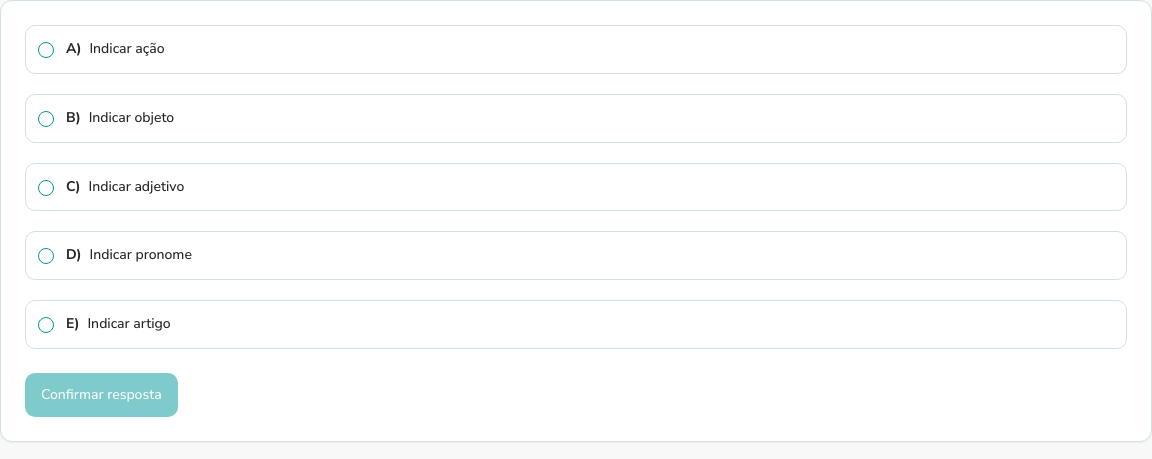
Test case: AnswerForm › botão começa desabilitado até selecionar alternativa
Check: the button "Confirmar resposta" is disabled, box [25,373,178,417]
What coordinates should you click on to do the following:
click the radio button in the row of "Indicar ação"
I would click on:
 (46, 50)
Its box is [38,42,54,58].
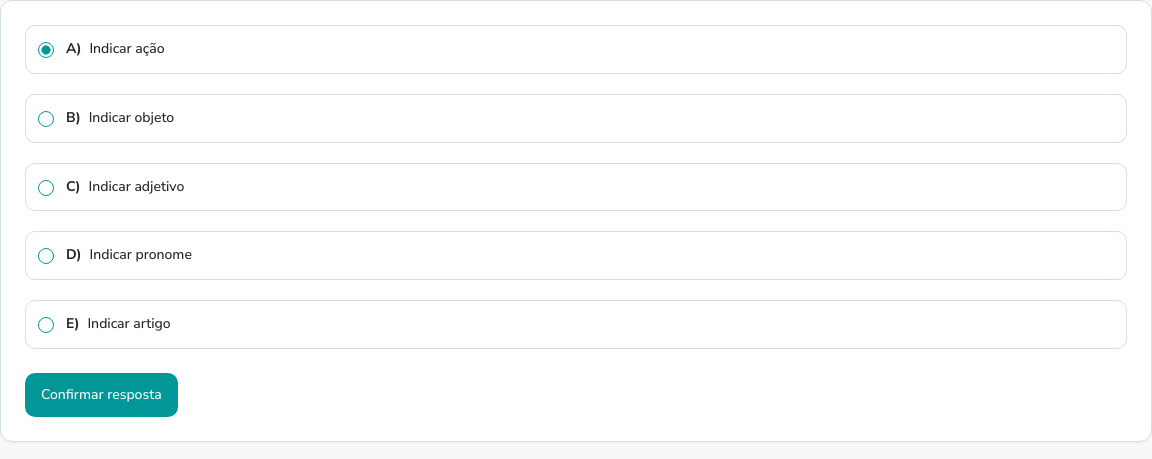
Check: the button "Confirmar resposta" is enabled, box [25,373,178,417]
